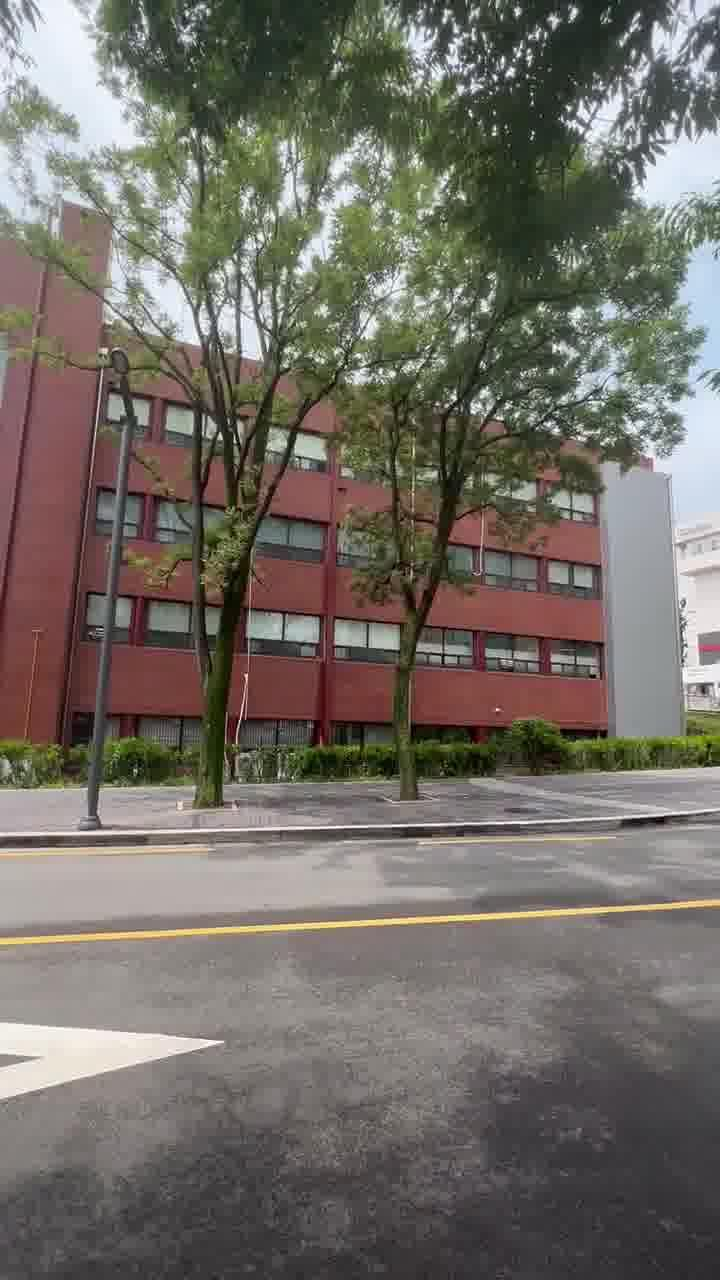building: (474, 514, 666, 724)
